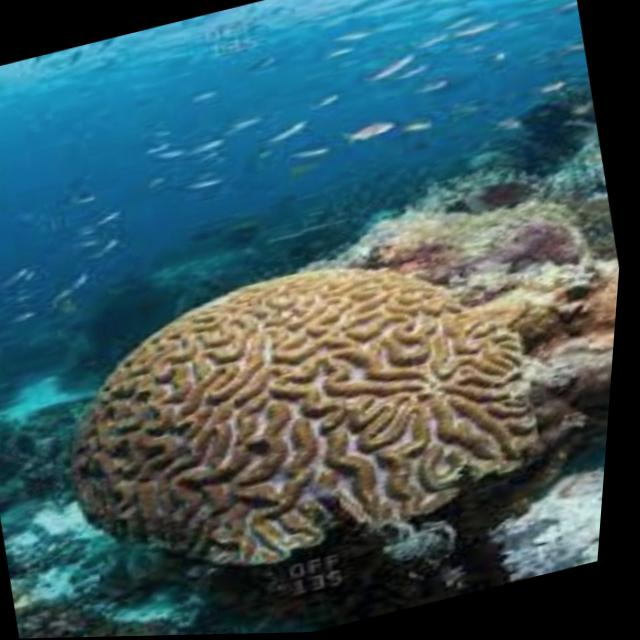Healthy Coral: (48, 202, 584, 606)
